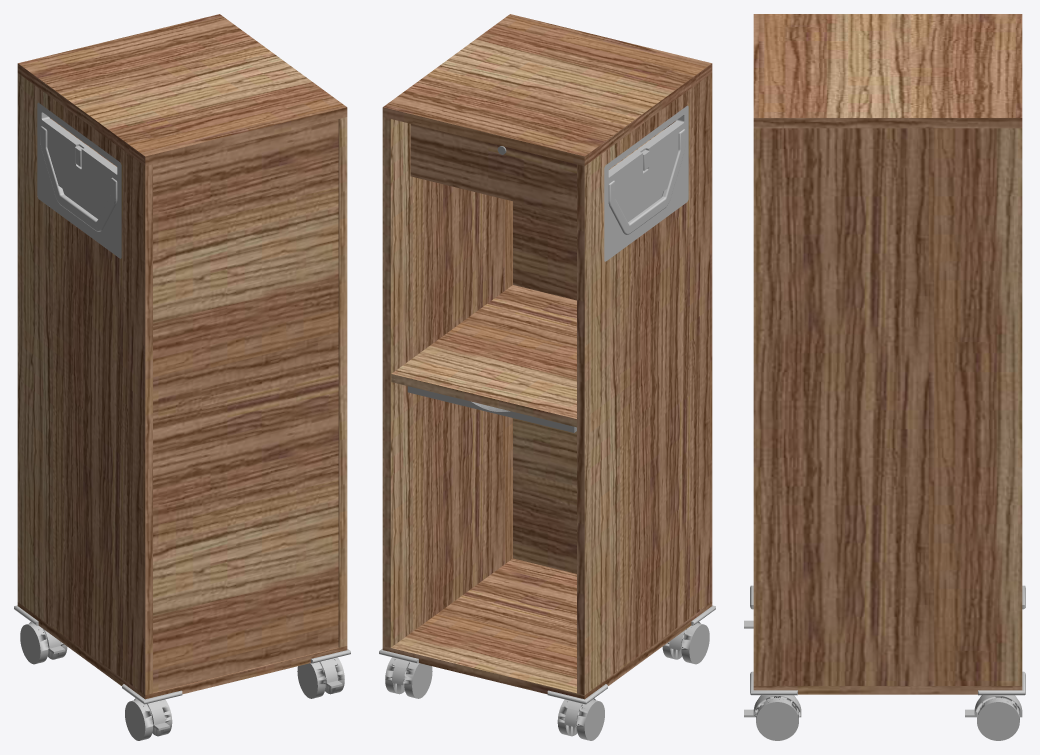
File: personal_cabinet_41_2_open_finala.fbx
3 renders of one model, left to right at view 1: azimuth 30°, elevation 25°; view 2: azimuth 150°, elevation 25°; view 3: azimuth 270°, elevation 25°, orthographic. The views are drawn at different scales.
Visible parts, largest first — view 1: drewno_mesh, plastik_mesh; view 2: drewno_mesh (×2), plastik_mesh, szuflada_mesh; view 3: drewno_mesh, plastik_mesh.
Part boxes in pixels (x1=…): drewno_mesh: x1=17, y1=14, x2=347, y2=699; plastik_mesh: x1=14, y1=102, x2=350, y2=740; drewno_mesh (×2): x1=382, y1=14, x2=712, y2=699; plastik_mesh: x1=379, y1=105, x2=715, y2=740; szuflada_mesh: x1=407, y1=386, x2=576, y2=432; drewno_mesh: x1=753, y1=14, x2=1022, y2=694; plastik_mesh: x1=744, y1=585, x2=1025, y2=740.
Size of the model in its own units: 42.4 by 115 by 47.2.
